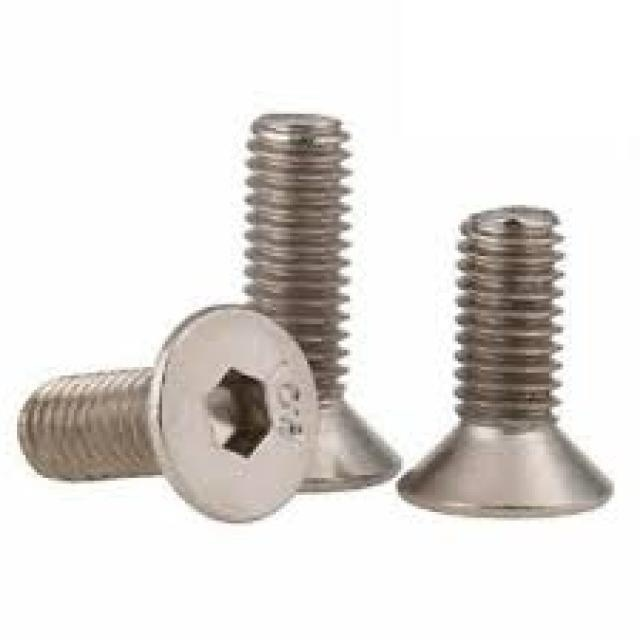allen: (150, 300, 320, 528)
